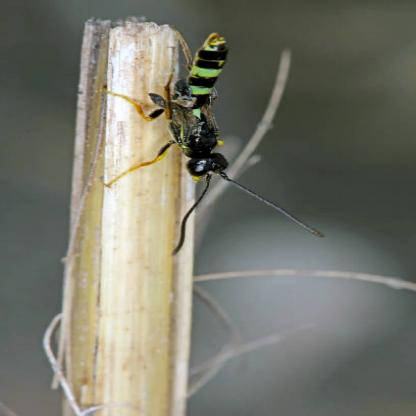sawfly: (107, 29, 331, 254)
